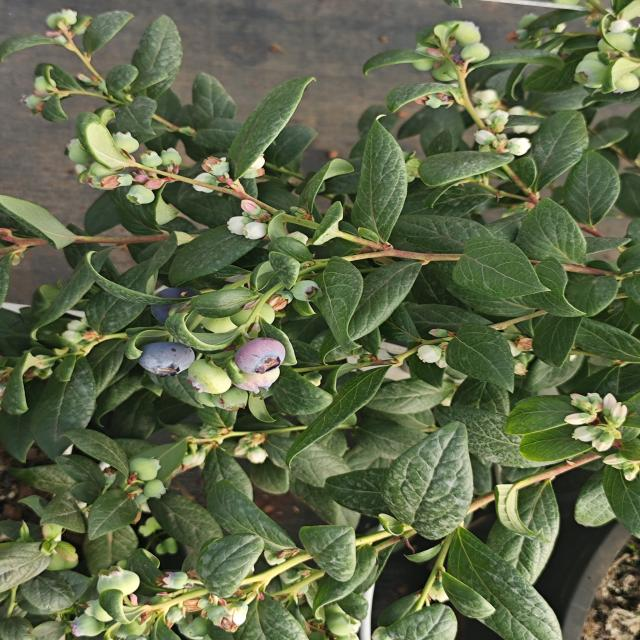ripe: (130, 336, 203, 378), (146, 278, 208, 327), (230, 330, 282, 369)
